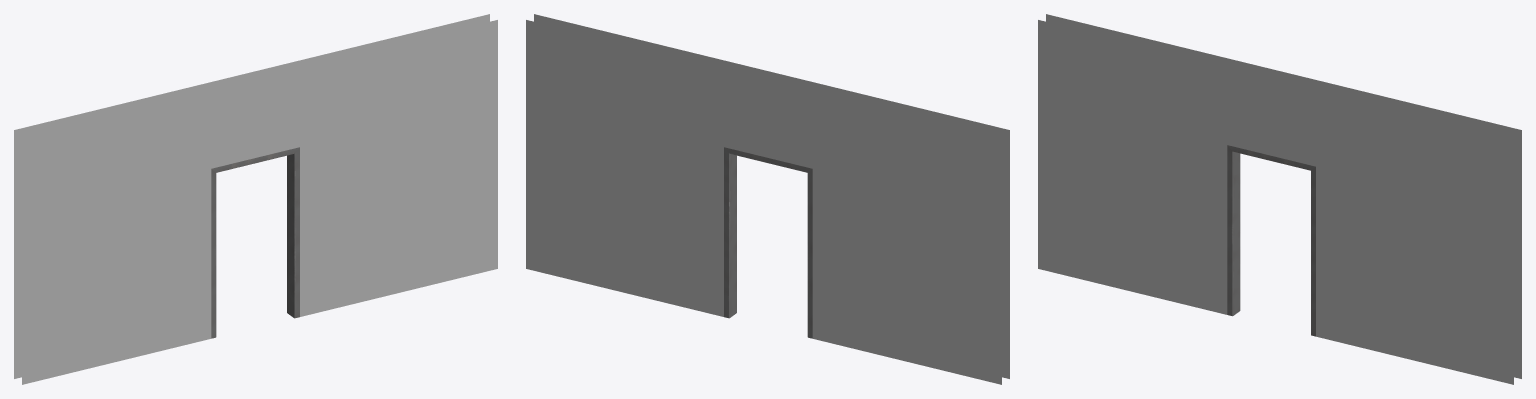
The model's file is SM_Wall_Interior_LG_Door_Uncapped.fbx.
The picture shows the model from 3 angles, left to right: view 1: azimuth 30°, elevation 25°; view 2: azimuth 150°, elevation 25°; view 3: azimuth 330°, elevation 25°; orthographic projection.
Visible parts, largest first — view 1: SM_Wall_Interior_LG_Door_Uncapped; view 2: SM_Wall_Interior_LG_Door_Uncapped; view 3: SM_Wall_Interior_LG_Door_Uncapped.
Part boxes in pixels (x1,y1,x2,y2): SM_Wall_Interior_LG_Door_Uncapped: (14, 14, 497, 384); SM_Wall_Interior_LG_Door_Uncapped: (526, 14, 1009, 384); SM_Wall_Interior_LG_Door_Uncapped: (1038, 14, 1521, 384).
Size of the model in its own units: 700 by 20 by 350.
2 materials, 1 textured.
